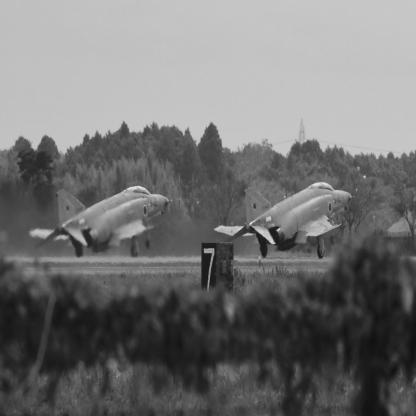F4: (215, 183, 356, 260), (30, 187, 174, 258)
